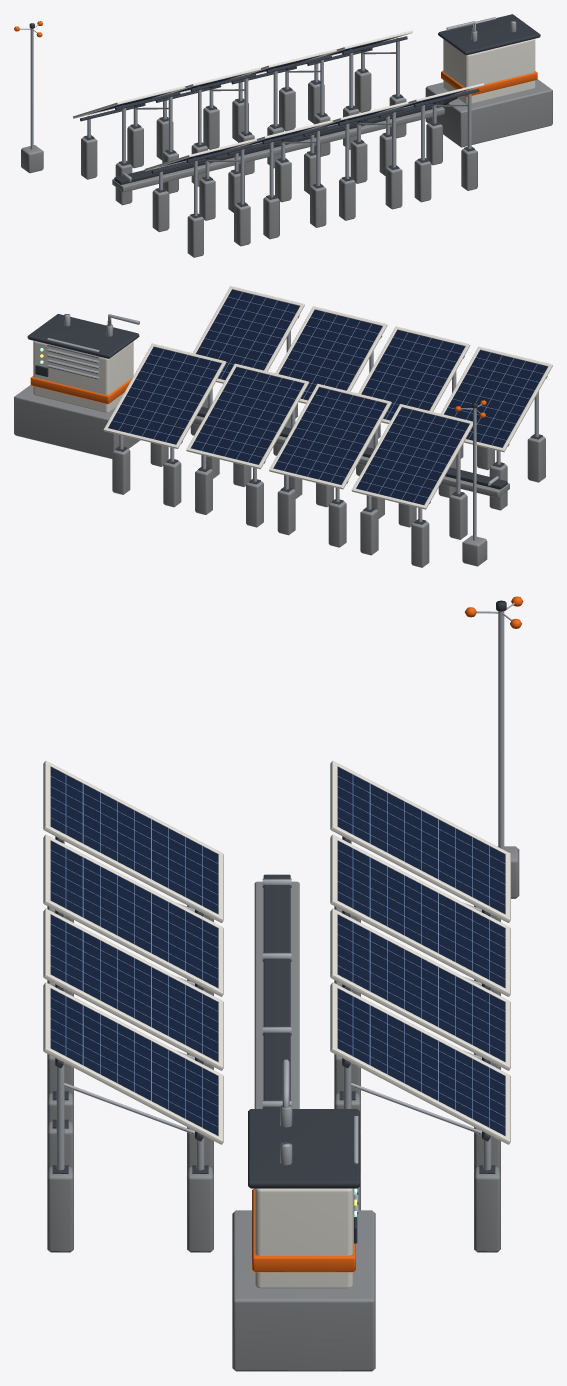
File: outpost_solar.glb
The picture shows the model from 3 angles, top to bottom: view 1: azimuth 30°, elevation 25°; view 2: azimuth 150°, elevation 25°; view 3: azimuth 270°, elevation 25°; orthographic projection. The views are drawn at different scales.
Parts seen in each view (by area): view 1: Body; view 2: Body; view 3: Body.
Part boxes in pixels (x1,y1,x2,y2): Body: (14, 14, 552, 257); Body: (14, 286, 552, 567); Body: (43, 596, 523, 1371).
Bounding box in the file's own units: 12.06 × 4.02 × 5.35.
